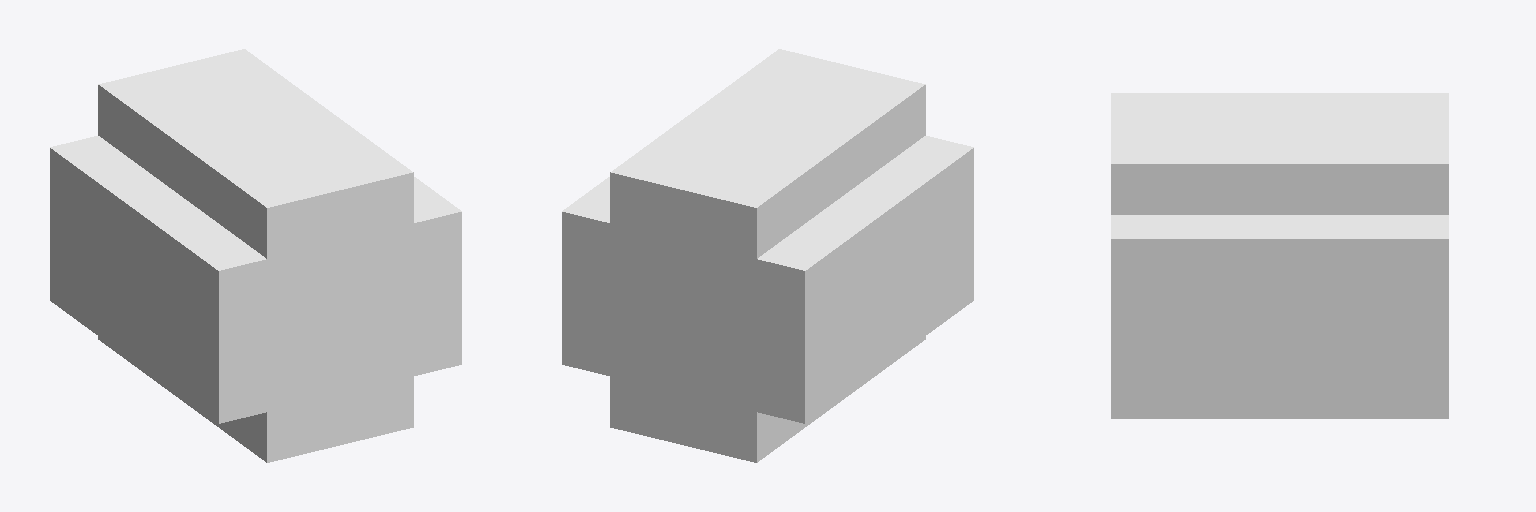
File: pipe_centre.obj
3 views of the same model, side by side, from view 1: azimuth 30°, elevation 25°; view 2: azimuth 150°, elevation 25°; view 3: azimuth 270°, elevation 25° (orthographic).
Parts seen in each view (by area): view 1: pipe_centre; view 2: pipe_centre; view 3: pipe_centre.
Boxes of the visible parts, box(x1,y1,x2,y2) form: pipe_centre: box(50, 49, 461, 462); pipe_centre: box(562, 49, 973, 462); pipe_centre: box(1111, 93, 1448, 418).
Size of the model in its own units: 5 by 5 by 6.